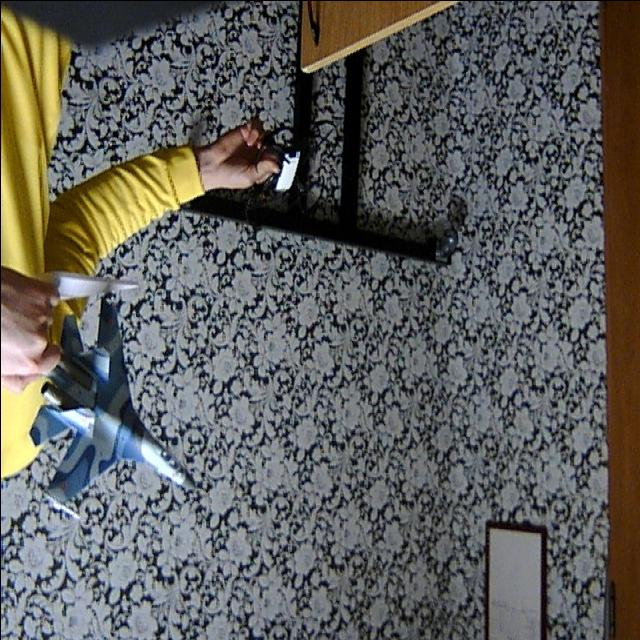drone: (234, 113, 348, 264)
